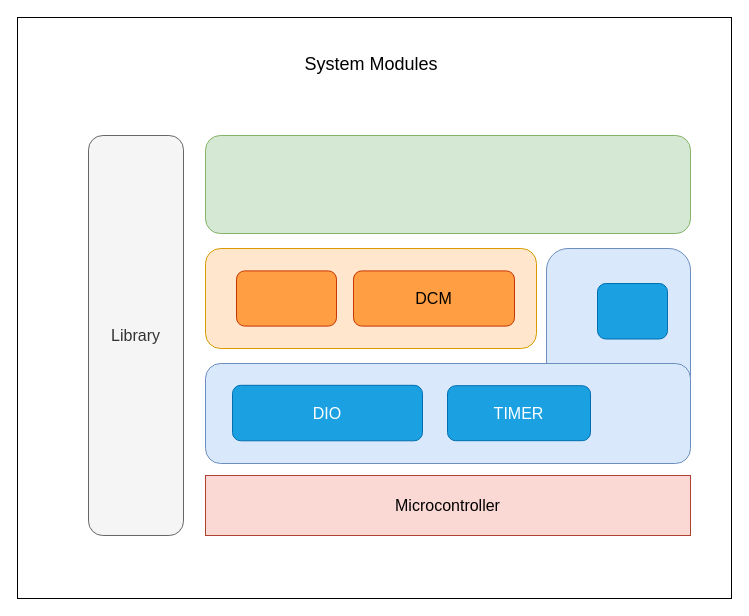
The diagram is 749 pixels wide and 616 high, and some of its shapes have lost their labels. Each missing label, with the centre of its shape:
"Application Layer" belongs at (x=447, y=184).
"EXI" belongs at (x=632, y=310).
"LED" belongs at (x=286, y=298).
